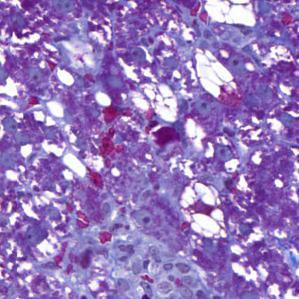ballooning: (175, 178, 231, 240), (189, 46, 242, 108), (134, 78, 181, 126), (200, 3, 258, 33)
